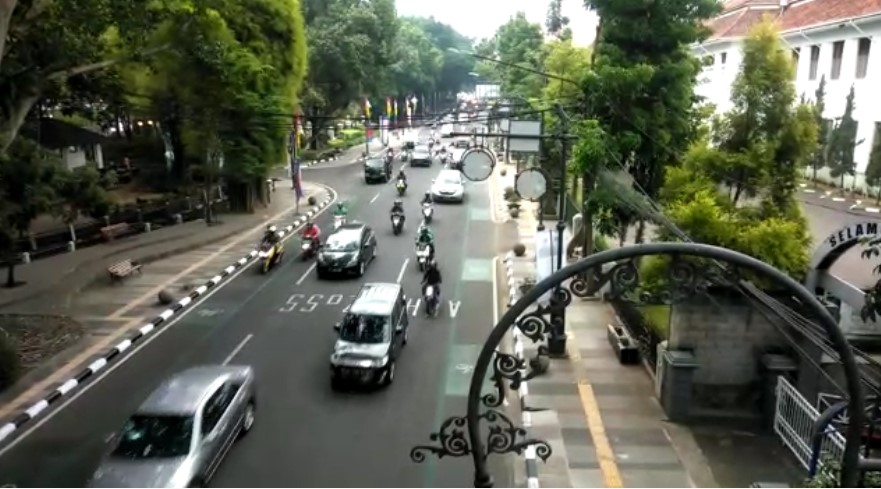mobil: (68, 350, 272, 489), (323, 281, 412, 395), (317, 222, 379, 279), (429, 167, 469, 203)
motor: (417, 262, 450, 315), (255, 224, 287, 272), (296, 216, 321, 256), (415, 226, 437, 264), (415, 190, 436, 222), (390, 202, 406, 235)
